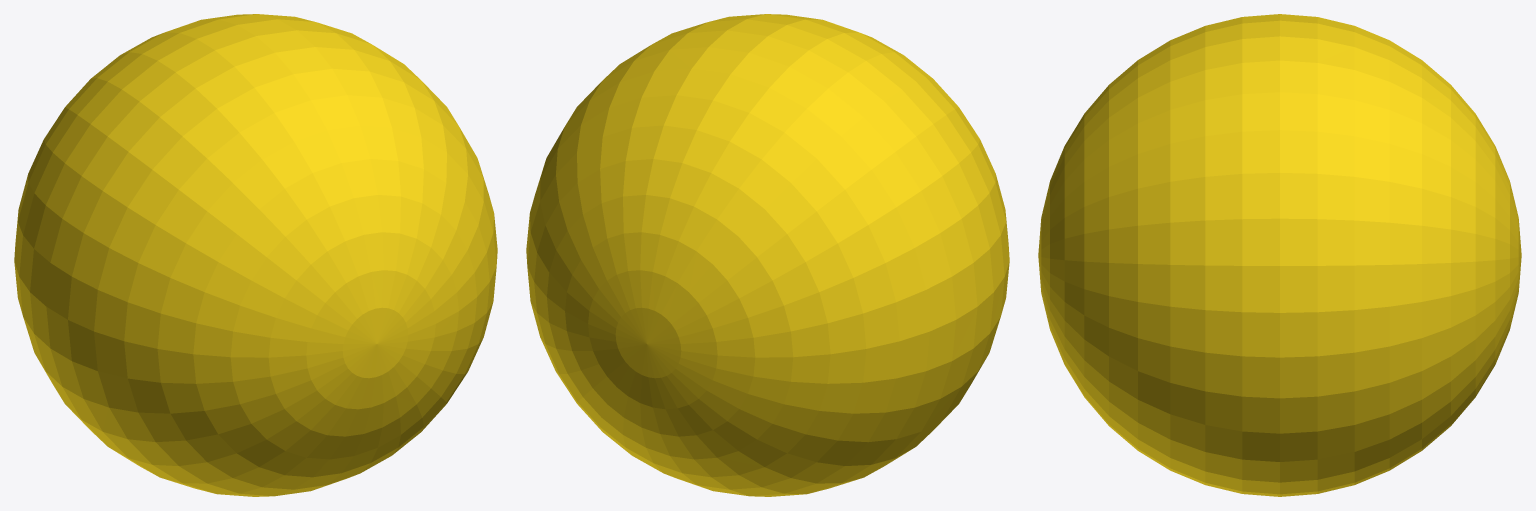
File: ball.obj
3 views of the same model, side by side, from view 1: azimuth 30°, elevation 25°; view 2: azimuth 150°, elevation 25°; view 3: azimuth 270°, elevation 25° (orthographic).
Parts seen in each view (by area): view 1: BallYellow_part; view 2: BallYellow_part; view 3: BallYellow_part.
Boxes of the visible parts, box(x1,y1,x2,y2) form: BallYellow_part: box(14, 14, 497, 496); BallYellow_part: box(526, 14, 1009, 496); BallYellow_part: box(1038, 14, 1521, 496).
Size of the model in its own units: 0.04 by 0.04 by 0.04.
